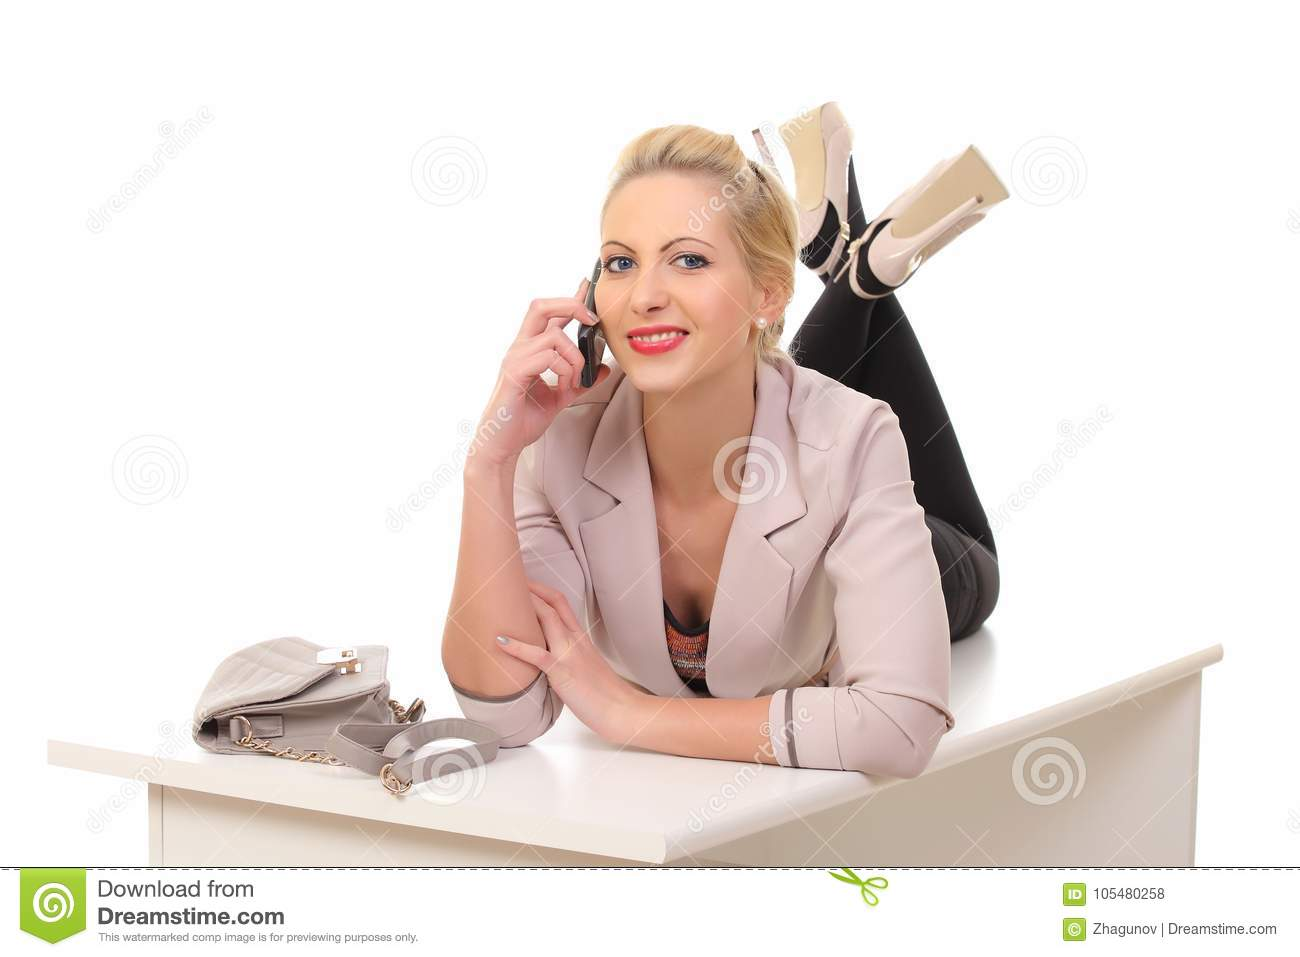phone: (563, 256, 624, 408)
talk: (472, 222, 733, 459)
